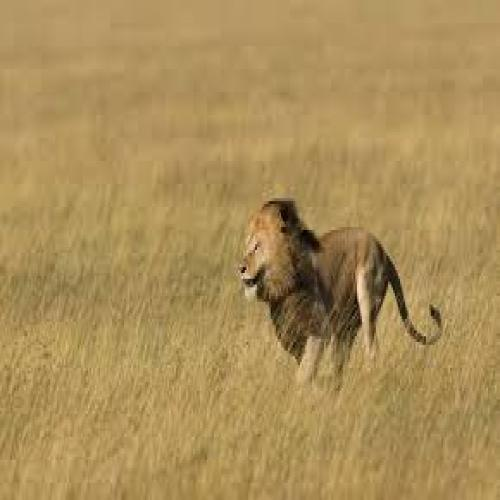lion-endangered: (239, 197, 445, 397)
